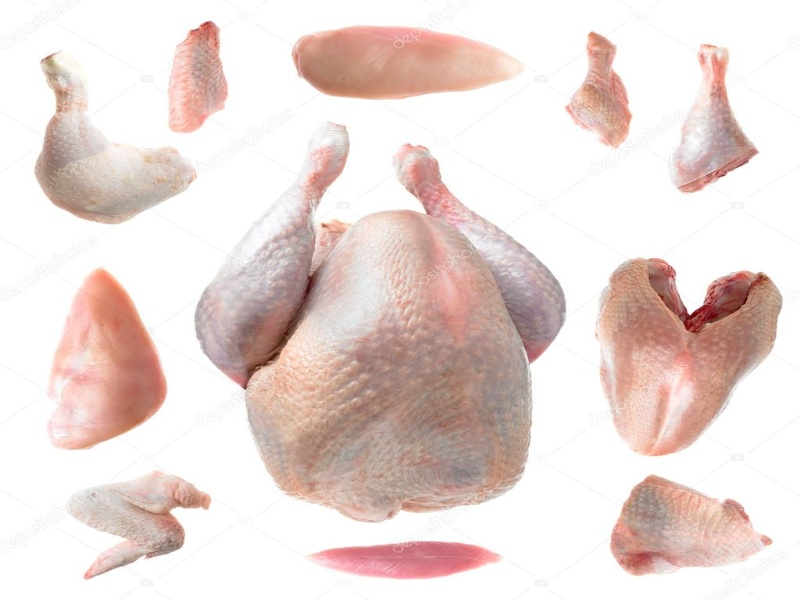Pollo: (193, 120, 569, 520), (595, 257, 782, 457), (33, 50, 198, 226), (43, 267, 168, 451), (292, 24, 526, 100), (610, 473, 773, 578), (67, 471, 215, 579), (669, 38, 761, 197), (566, 29, 637, 153), (166, 20, 232, 134), (307, 541, 506, 578)
